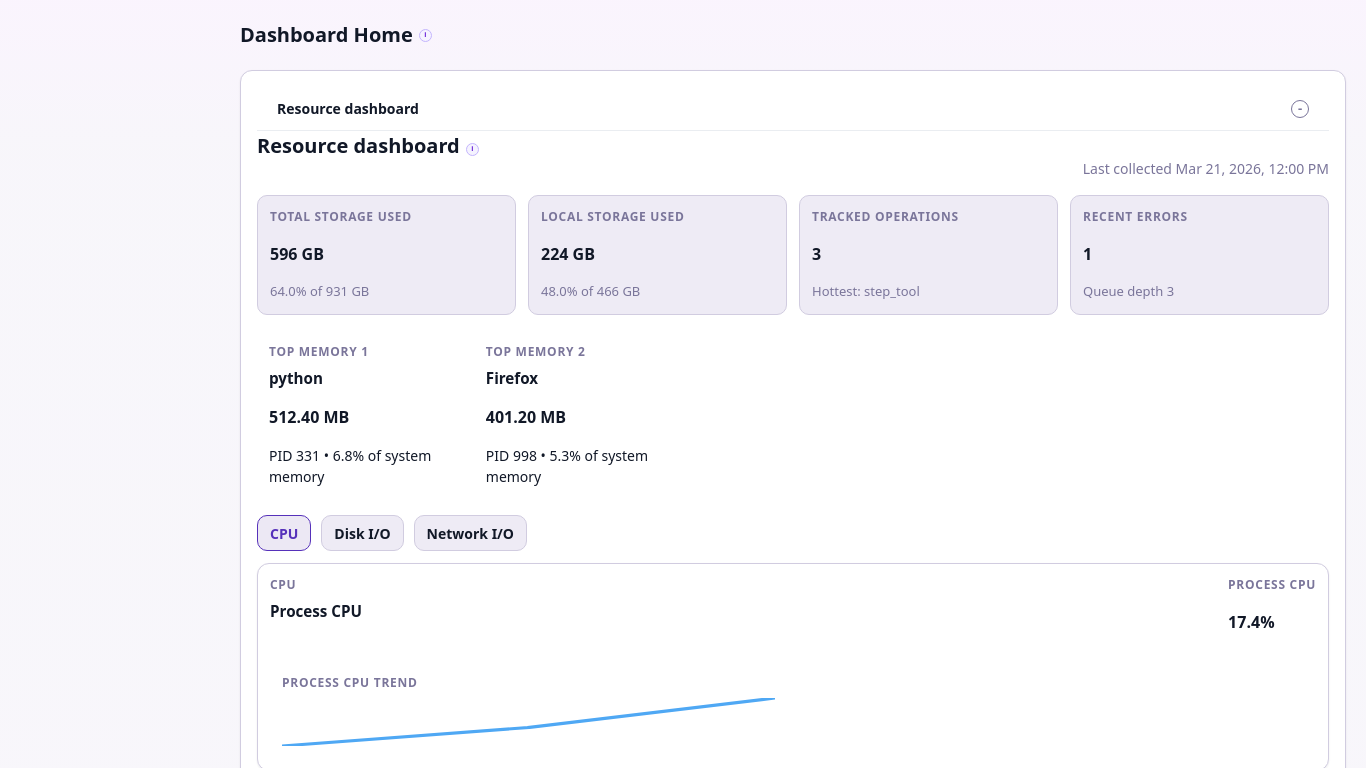
DashboardApp › surfaces persisted resource dashboard metrics on dashboard home
Expected: the heading "Resource dashboard" is shown, [257,131,460,161]
Expected: the text "596 GB" is shown, [270,243,324,265]
Click the button "Disk I/O" at (362, 533), box [321,515,404,551]
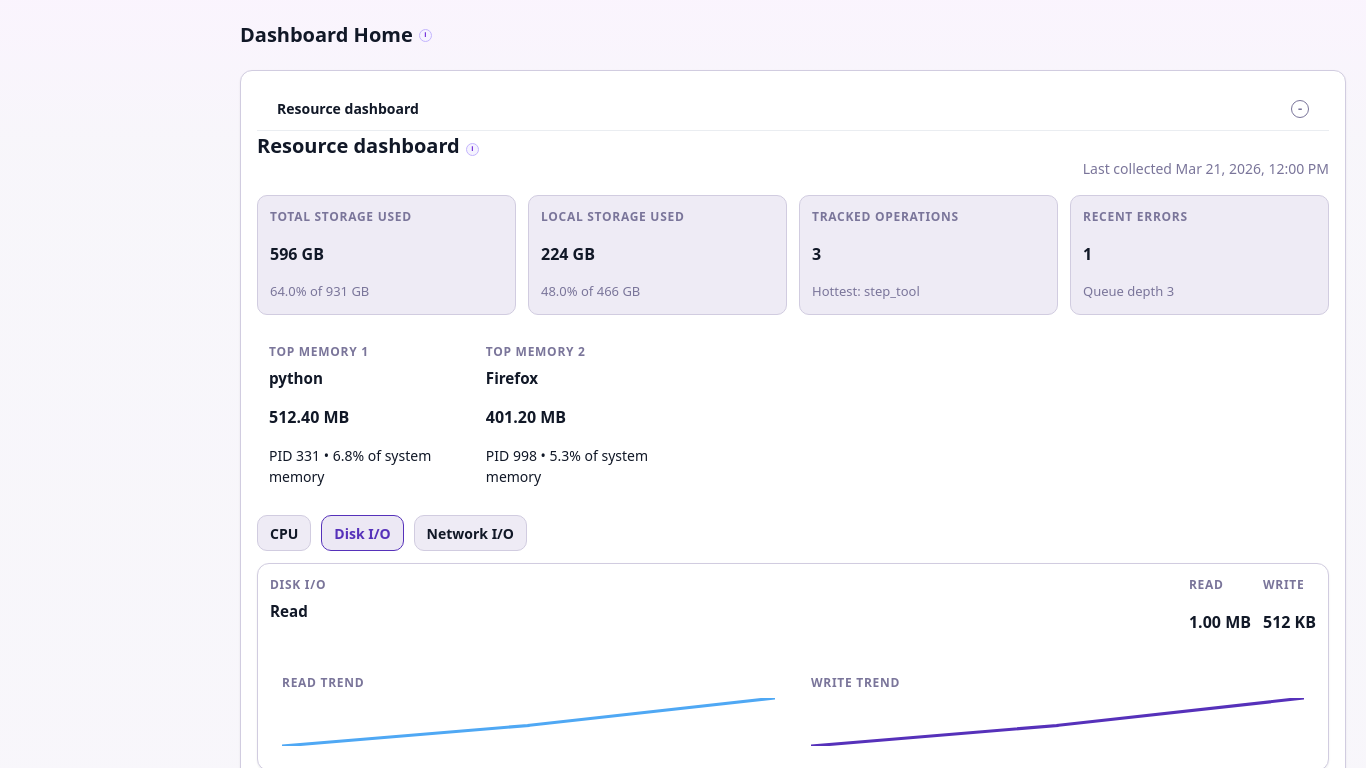
Now the text "1.00 MB" is shown, box [1189,610,1251,634]
Now the text "512 KB" is shown, box [1263,610,1316,634]
